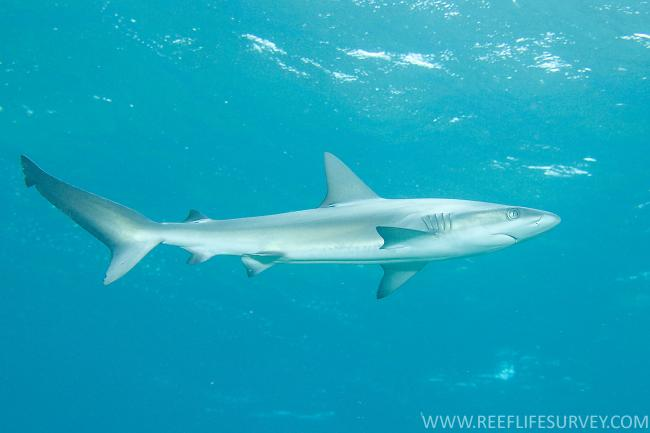fish: (20, 153, 565, 299)
